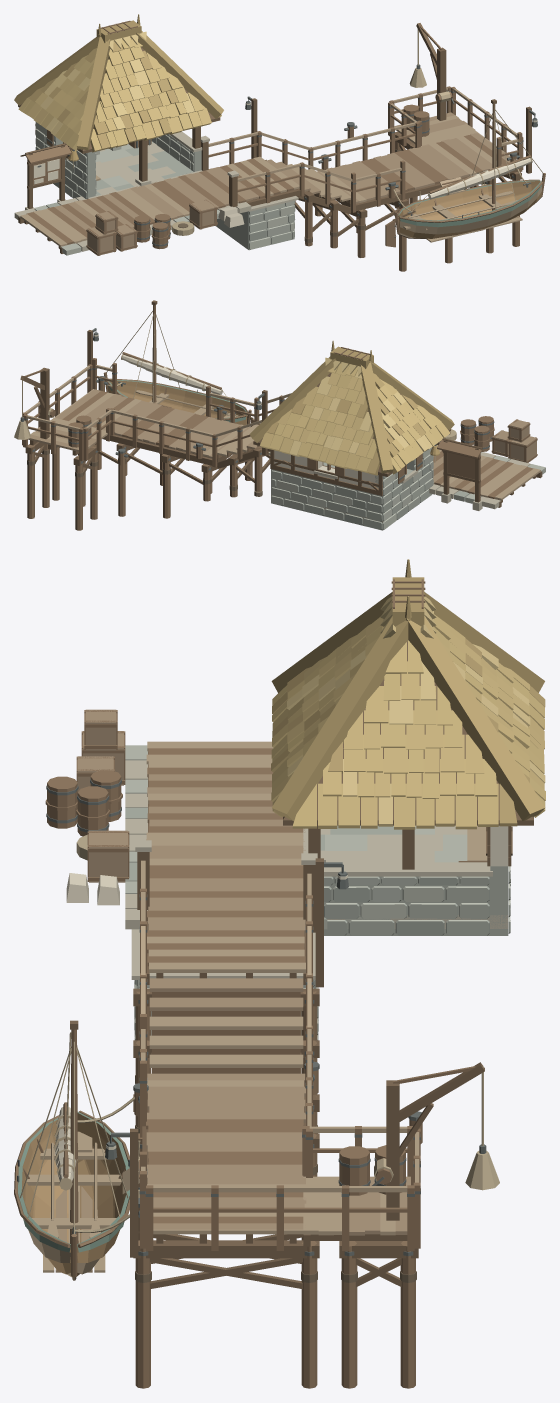
File: haven.glb
3 renders of one model, top to bottom at view 1: azimuth 30°, elevation 25°; view 2: azimuth 150°, elevation 25°; view 3: azimuth 270°, elevation 25°, orthographic. The views are drawn at different scales.
Parts seen in each view (by area): view 1: Haven_RoofThatch, Haven_DeckPier, Haven_PierRail, Haven_DeckLanding, Haven_ServiceBoat_Hull, Haven_PierFrame, Haven_RoofRidge, Haven_Props, Haven_PierStone, Haven_FloorShelter, Haven_Mooring, Haven_ServiceNotice_Board (+6 smaller); view 2: Haven_RoofThatch, Haven_PierFrame, Haven_DeckLanding, Haven_PierRail, Haven_ShellNorth, Haven_RoofRidge, Haven_Props, Haven_ShellWest, Haven_DeckPier, Haven_Mooring, Haven_ServiceBoat_Hull, Haven_ServiceNotice_Board (+5 smaller); view 3: Haven_RoofThatch, Haven_DeckPier, Haven_DeckLanding, Haven_PierFrame, Haven_RoofRidge, Haven_PierRail, Haven_Props, Haven_ShellEast, Haven_StairFlight, Haven_Mooring, Haven_ServiceBoat_Hull, Haven_FloorShelter (+6 smaller).
Boxes of the visible parts, x1,y1,x2,y2 form: Haven_RoofThatch: (18, 37, 221, 152); Haven_DeckPier: (20, 156, 299, 246); Haven_PierRail: (200, 86, 523, 212); Haven_DeckLanding: (317, 112, 510, 203); Haven_ServiceBoat_Hull: (394, 173, 545, 238); Haven_PierFrame: (18, 131, 521, 271); Haven_RoofRidge: (14, 14, 223, 150); Haven_Props: (86, 104, 429, 255); Haven_PierStone: (14, 196, 298, 255); Haven_FloorShelter: (72, 141, 202, 199); Haven_Mooring: (245, 23, 537, 211); Haven_ServiceNotice_Board: (20, 143, 78, 209); Haven_RoofThatch: (260, 363, 450, 475); Haven_PierFrame: (25, 434, 542, 530); Haven_DeckLanding: (28, 389, 250, 458); Haven_PierRail: (22, 358, 291, 467); Haven_ShellNorth: (271, 450, 384, 530); Haven_RoofRidge: (249, 340, 454, 473); Haven_Props: (68, 415, 537, 462); Haven_ShellWest: (375, 447, 433, 529); Haven_DeckPier: (433, 445, 540, 500); Haven_Mooring: (14, 328, 267, 465); Haven_ServiceBoat_Hull: (103, 372, 251, 425); Haven_ServiceNotice_Board: (430, 438, 486, 510); Haven_RoofThatch: (271, 611, 545, 829); Haven_DeckPier: (146, 741, 305, 972); Haven_DeckLanding: (146, 1073, 410, 1235); Haven_PierFrame: (133, 752, 418, 1388); Haven_RoofRidge: (271, 559, 544, 821); Haven_PierRail: (135, 840, 420, 1250); Haven_Props: (45, 709, 406, 1195); Haven_ShellEast: (324, 862, 492, 935); Haven_StairFlight: (149, 978, 303, 1067); Haven_Mooring: (75, 858, 499, 1257); Haven_ServiceBoat_Hull: (14, 1110, 129, 1280); Haven_FloorShelter: (303, 825, 508, 928).
Bounding box in the file's own units: 20.4 × 10.69 × 10.38.
